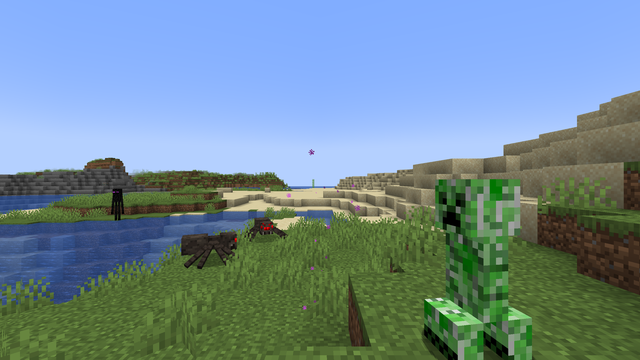araignees: (181, 228, 241, 266), (243, 216, 281, 242)
creepers: (430, 170, 530, 356)
endermens: (111, 187, 122, 219)
